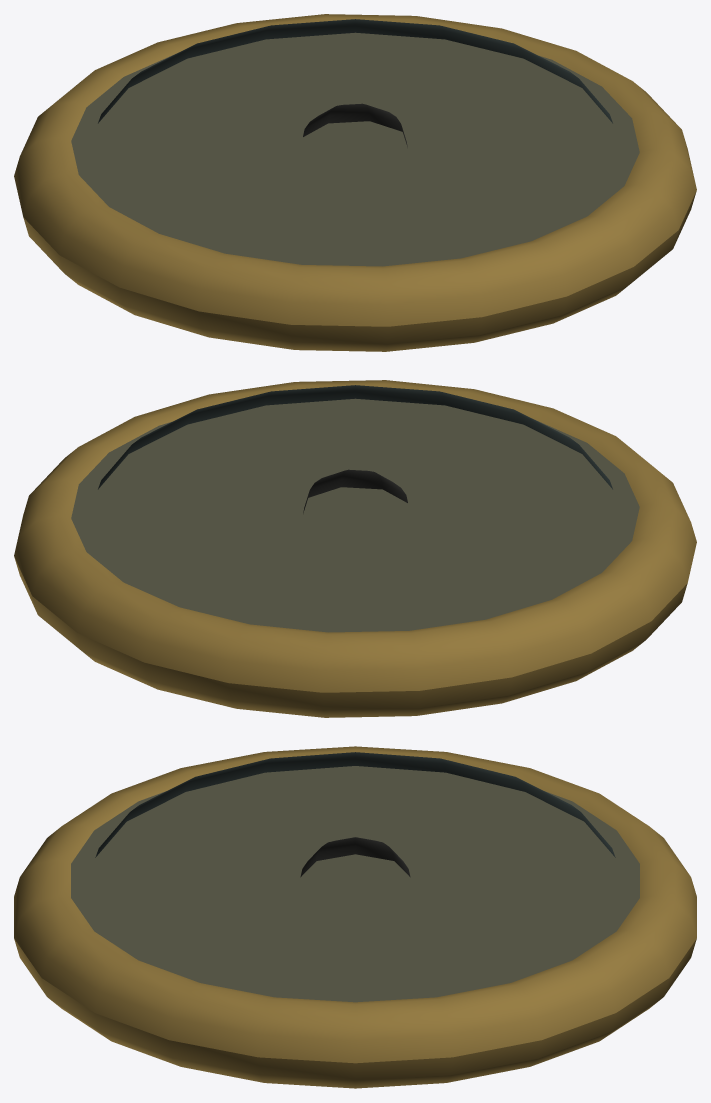
The model's file is compass.obj.
3 views of the same model, one above another, from view 1: azimuth 30°, elevation 25°; view 2: azimuth 150°, elevation 25°; view 3: azimuth 270°, elevation 25° (orthographic).
Parts seen in each view (by area): view 1: compass; view 2: compass; view 3: compass.
Boxes of the visible parts, x1,y1,x2,y2 form: compass: (14,14,696,351); compass: (14,380,696,717); compass: (14,746,696,1088).
Size of the model in its own units: 1.88 by 0.36 by 1.86.
